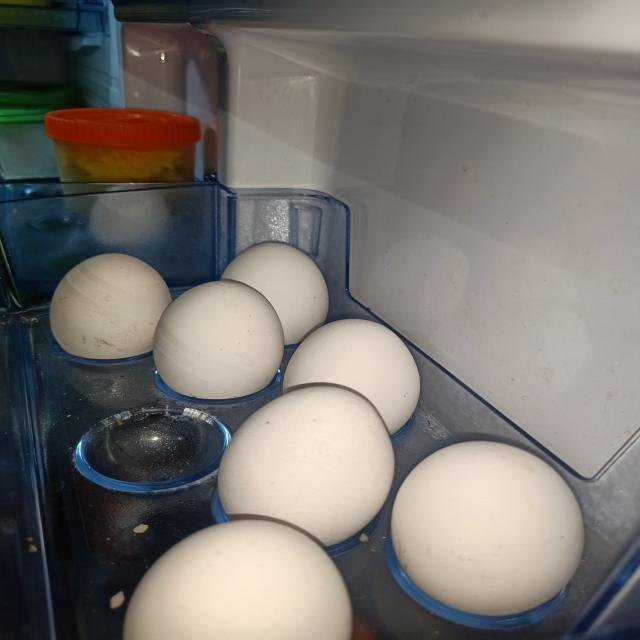Egg: (391, 442, 585, 617), (218, 386, 394, 546), (122, 520, 352, 640), (152, 280, 284, 400), (283, 319, 420, 434), (49, 253, 171, 359), (220, 242, 328, 345)
